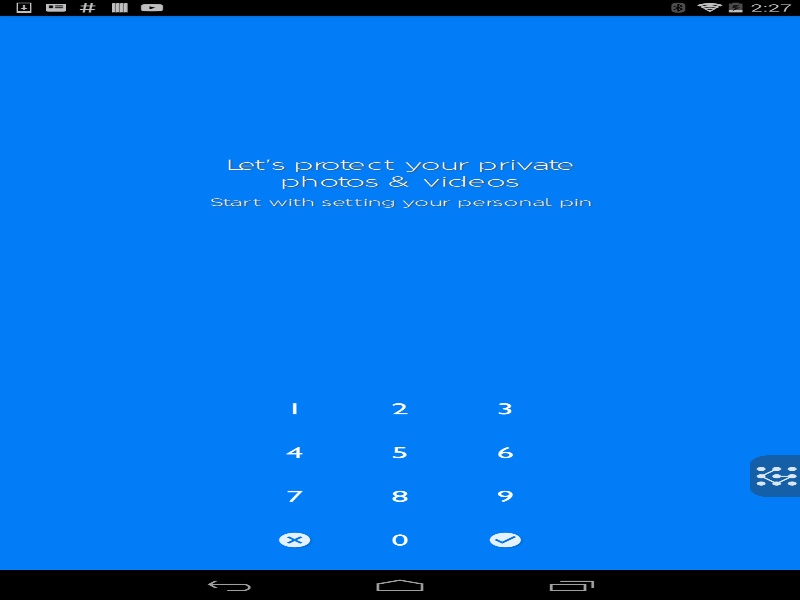Button: (254, 391, 334, 429), (360, 391, 440, 429), (465, 391, 545, 429), (254, 435, 334, 473), (360, 435, 440, 473), (465, 435, 545, 473), (254, 479, 334, 516), (360, 479, 440, 516), (465, 479, 545, 516), (360, 523, 440, 560)
Input: (0, 220, 800, 245)
